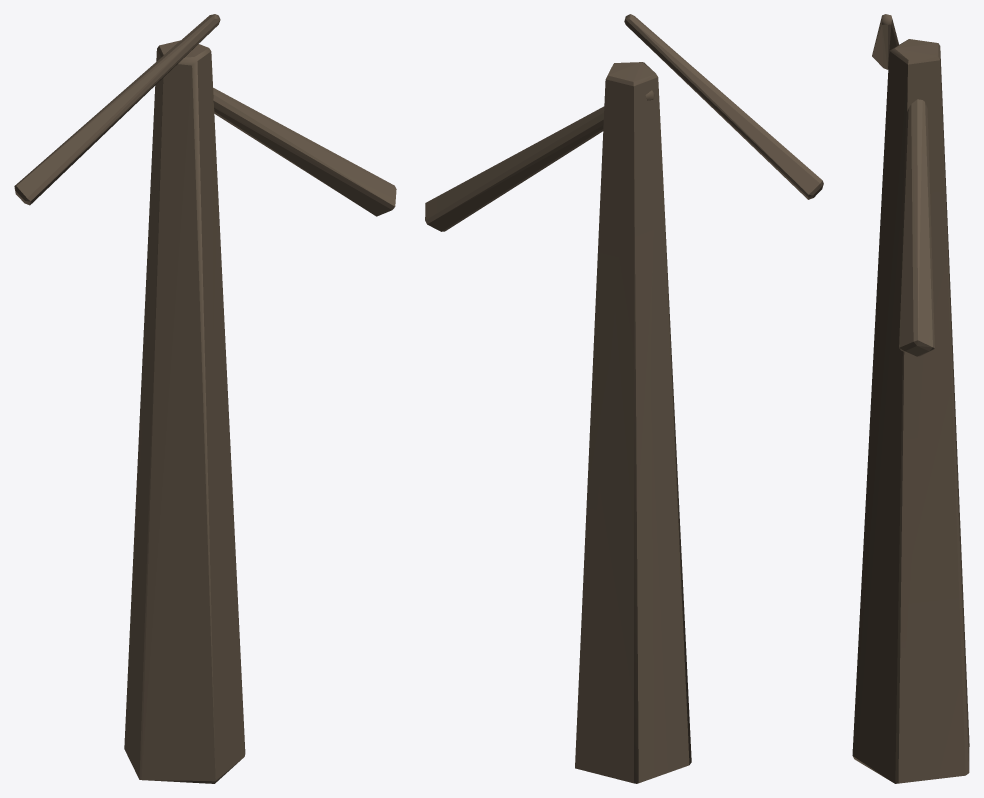
Rendered from prop_snag_lod1.glb.
3 views of the same model, side by side, from view 1: azimuth 30°, elevation 25°; view 2: azimuth 150°, elevation 25°; view 3: azimuth 270°, elevation 25° (orthographic). The views are drawn at different scales.
Visible parts, largest first — view 1: prop_snag_lod1; view 2: prop_snag_lod1; view 3: prop_snag_lod1.
Part boxes in pixels (x1,y1,x2,y2): prop_snag_lod1: (14,14,396,783); prop_snag_lod1: (425,14,823,783); prop_snag_lod1: (852,14,969,783).
Bounding box in the file's own units: 1.51 × 2.75 × 0.3872.
